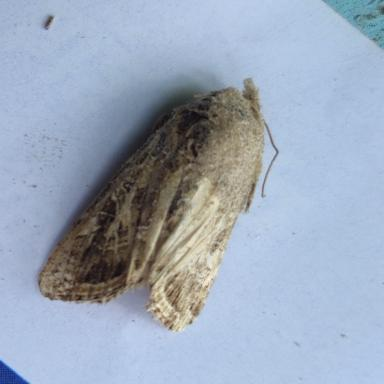abw: (36, 75, 282, 331)
